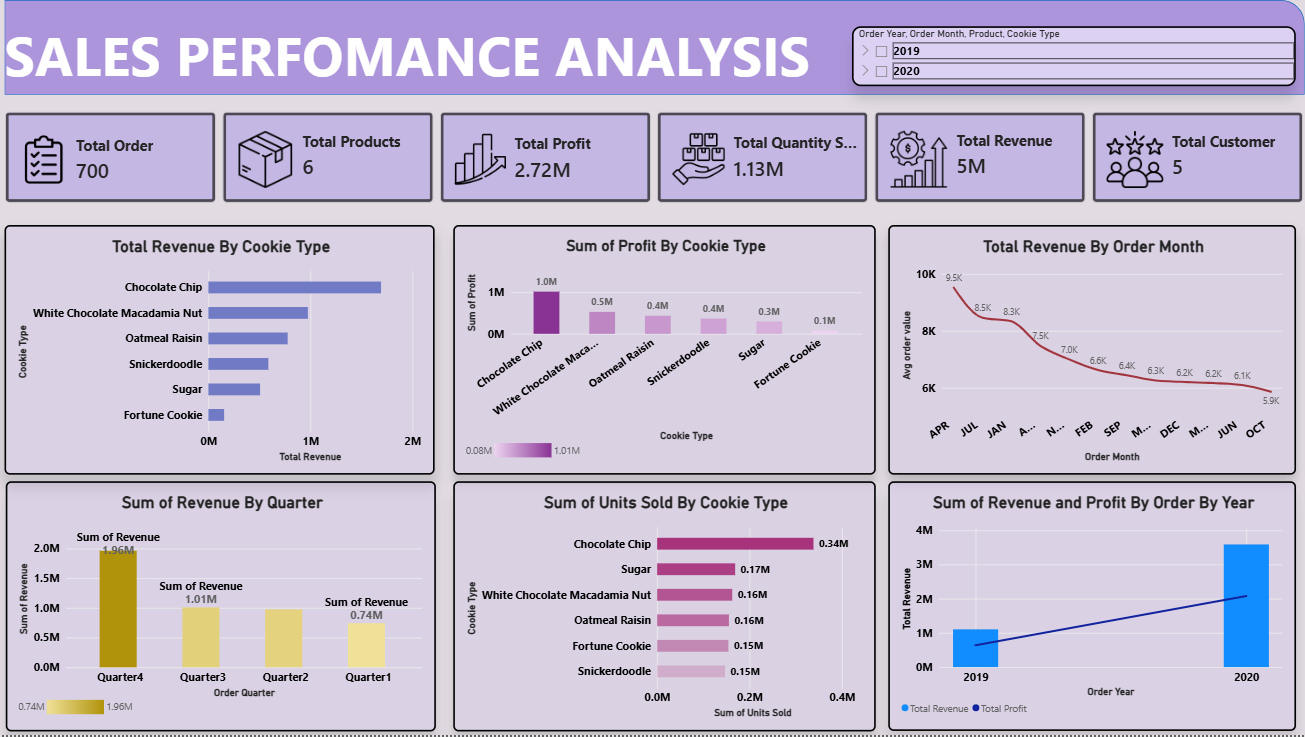

Layout of this report page (visuals, bound fields, positions):
{"tool":"powerbi","page":{"name":"DashBoard","canvas":[1920,1080],"ordinal":0},"visuals":[{"type":"shape","box":[11.8,0,1907.8,139.2],"z":0},{"type":"textbox","box":[10.9,26.1,1908.7,113],"z":1000},{"type":"cardVisual","fields":{"Data":["Orders.Total Order","Orders.Total Products","Orders.Total Profit","Orders.Total Quantity Sold","Orders.Total Revenue","Orders.Total Customer"]},"box":[11.8,162.7,1907.8,135.3],"z":2000},{"type":"clusteredBarChart","title":"Total Revenue By Cookie Type","fields":{"Category":["Cookie Types.Cookie Type"],"Y":["Orders.Total Revenue"]},"box":[11.8,329.4,631.4,366.7],"z":3000},{"type":"clusteredColumnChart","title":"Sum of Profit By Cookie Type","fields":{"Category":["Cookie Types.Cookie Type"],"Y":["Sum(Orders.Profit)"]},"box":[668.6,329.4,619.6,366.7],"z":4000},{"type":"lineChart","title":"Total Revenue By Order Month","fields":{"Category":["Orders.Order Month"],"Y":["Orders.Avg order value"]},"box":[1307.8,329.4,598,366.7],"z":5000},{"type":"clusteredColumnChart","title":"Sum of Revenue By Quarter","fields":{"Category":["Orders.Order Quarter"],"Y":["Sum(Orders.Revenue)"]},"box":[12,706,631,367],"z":6000},{"type":"barChart","title":"Sum of Units Sold By Cookie Type","fields":{"Category":["Cookie Types.Cookie Type"],"Y":["Sum(Orders.Units Sold)"]},"box":[669,706,620,367],"z":7000},{"type":"lineClusteredColumnComboChart","title":"Sum of Revenue and Profit By Order By Year","fields":{"Category":["Orders.Order Year"],"Y":["Orders.Total Revenue"],"Y2":["Orders.Total Profit"]},"box":[1307.8,705.9,598,366.7],"z":8000},{"type":"slicer","fields":{"Values":["Orders.Order Year","Orders.Order Month","Orders.Product","Cookie Types.Cookie Type"]},"box":[1254.6,38.5,651.2,88],"z":9000}]}

Visuals, with their boxes in screenshot pixels (x1, y1, x2, y2), scaled from the page's 1920x1080 canvas onto the 1305x737 screenshot:
shape: BBox(8, 0, 1304, 95)
textbox: BBox(7, 18, 1304, 95)
cardVisual - Orders.Total Order x Orders.Total Products: BBox(8, 111, 1304, 203)
"Total Revenue By Cookie Type" clusteredBarChart: BBox(8, 225, 437, 475)
"Sum of Profit By Cookie Type" clusteredColumnChart: BBox(454, 225, 876, 475)
"Total Revenue By Order Month" lineChart: BBox(889, 225, 1295, 475)
"Sum of Revenue By Quarter" clusteredColumnChart: BBox(8, 482, 437, 732)
"Sum of Units Sold By Cookie Type" barChart: BBox(455, 482, 876, 732)
"Sum of Revenue and Profit By Order By Year" lineClusteredColumnComboChart: BBox(889, 482, 1295, 732)
slicer - Orders.Order Year x Orders.Order Month: BBox(853, 26, 1295, 86)
